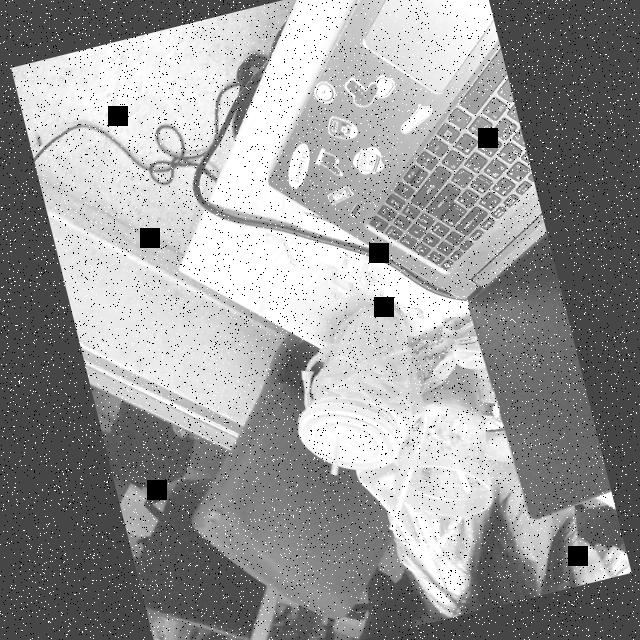plastic_bag: (282, 300, 428, 448), (399, 317, 496, 422)
plastic_cup: (273, 304, 435, 484), (369, 369, 509, 539)
plastic_cup_lid: (284, 382, 403, 488)
plastic_spoon: (438, 424, 474, 498)
scrap_paper: (286, 202, 358, 278)
scrap_plastic: (324, 250, 384, 304)
straw: (363, 418, 451, 534), (316, 419, 356, 481)
